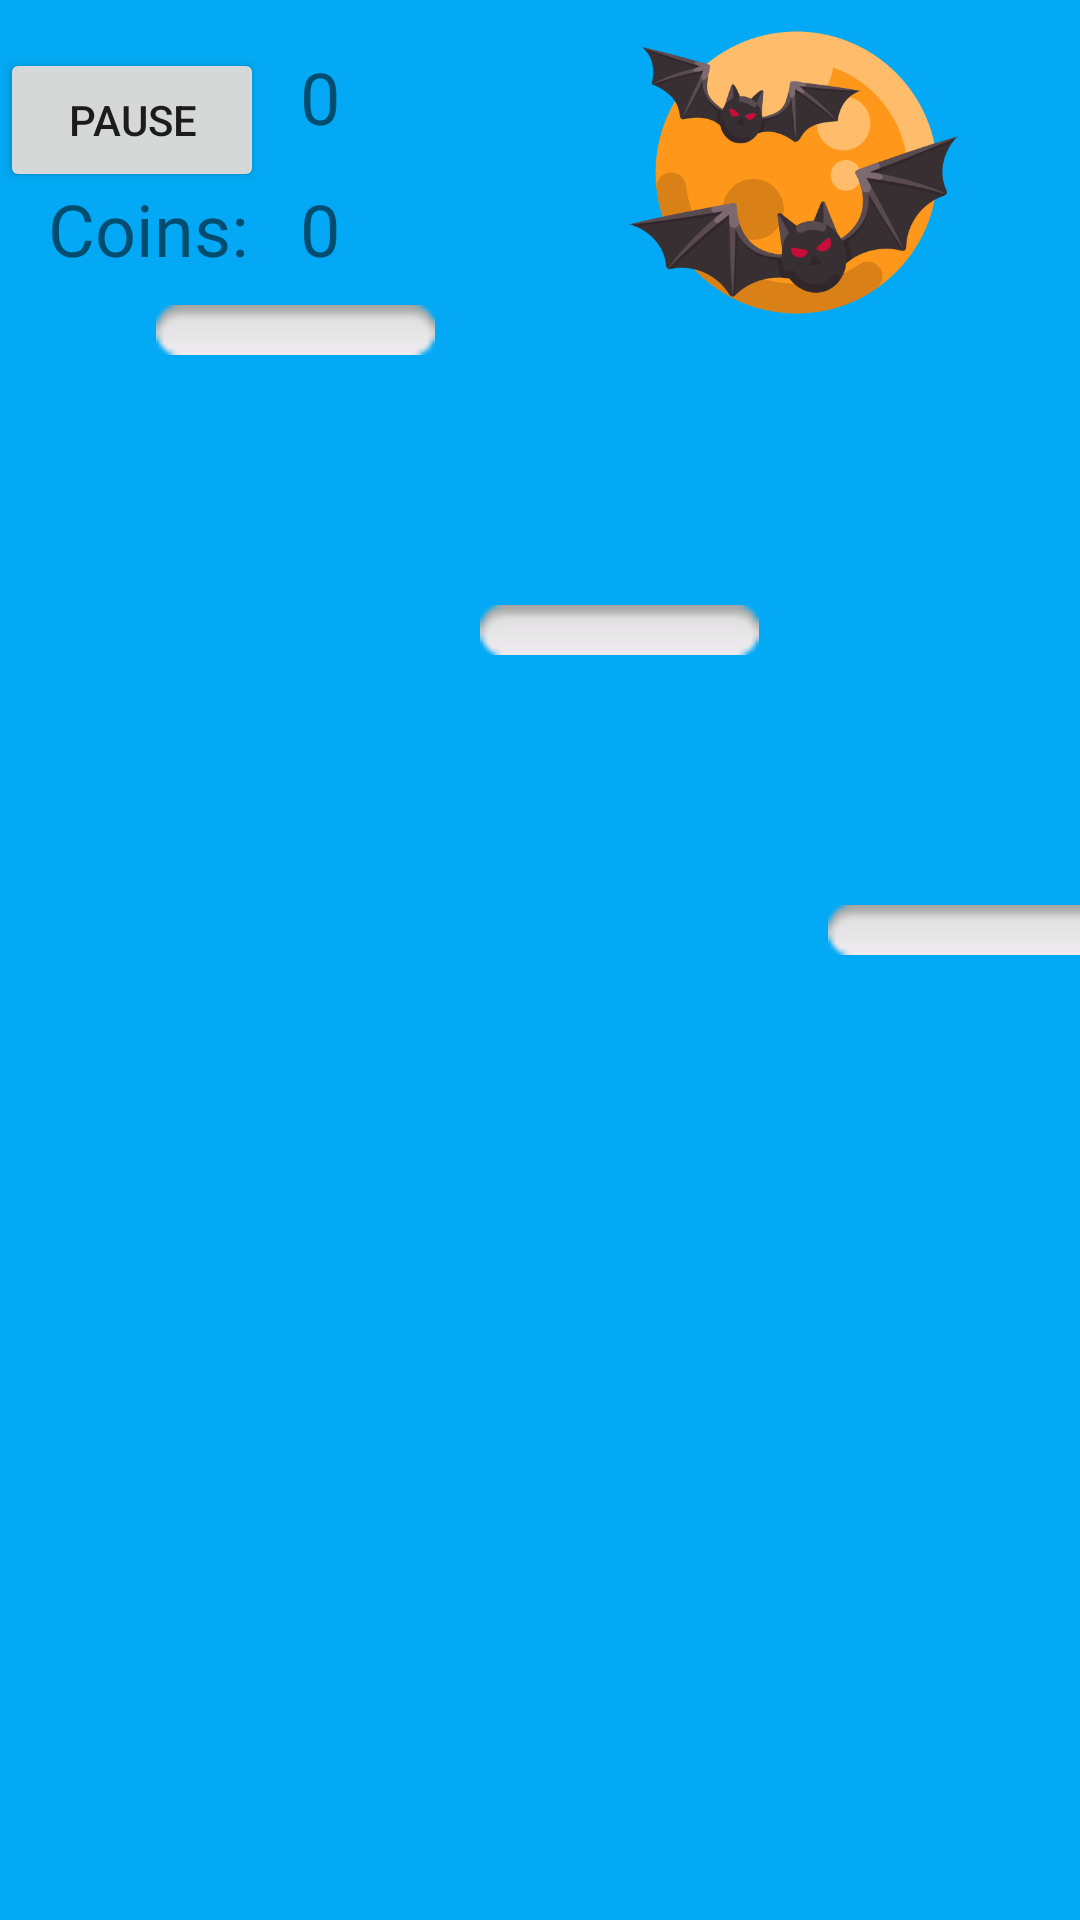

Where to tap for icons on this 1080×1920 app screen, as (x,y):
moonbats: (793,172)
